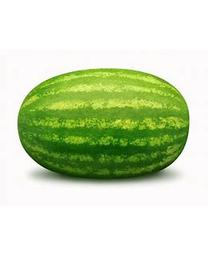watermelon: (16, 66, 190, 180)
